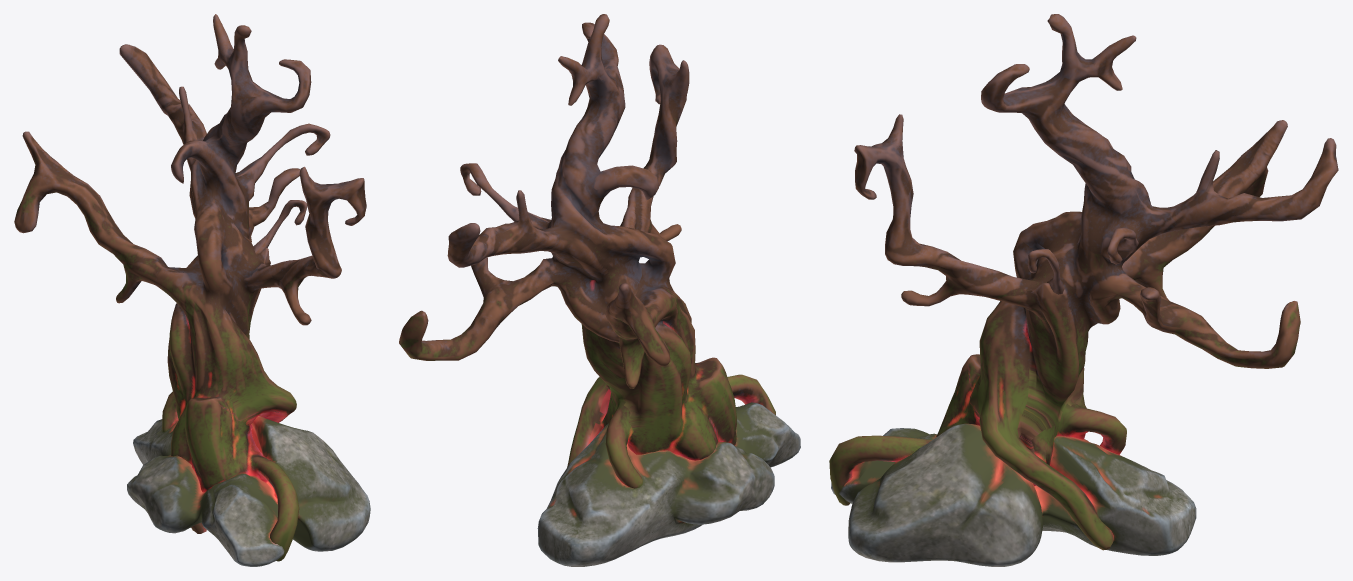
File: Tree4.fbx
3 views of the same model, side by side, from view 1: azimuth 30°, elevation 25°; view 2: azimuth 150°, elevation 25°; view 3: azimuth 270°, elevation 25° (orthographic). The views are drawn at different scales.
Parts seen in each view (by area): view 1: Tree4; view 2: Tree4; view 3: Tree4.
Boxes of the visible parts, x1,y1,x2,y2 form: Tree4: [14, 14, 370, 566]; Tree4: [399, 14, 800, 566]; Tree4: [829, 14, 1338, 566].
Bounding box in the file's own units: 506 × 902 × 765.
